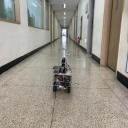cart: (52, 68, 72, 94)
